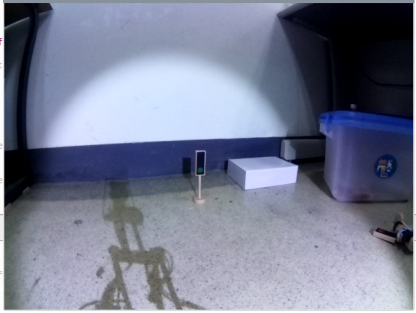Green: (192, 146, 208, 178)
